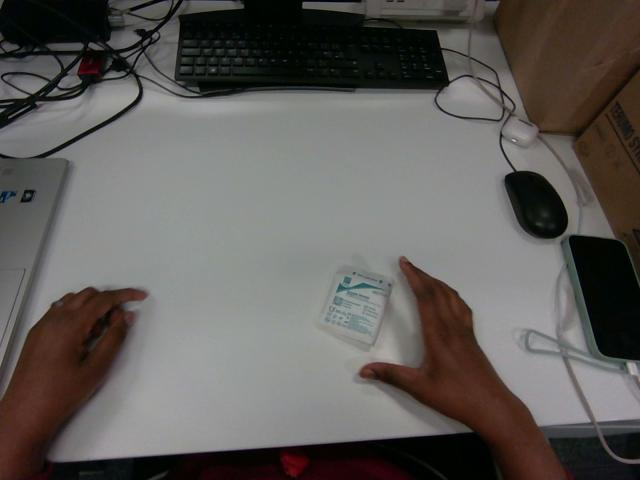gauze: (316, 266, 392, 345)
